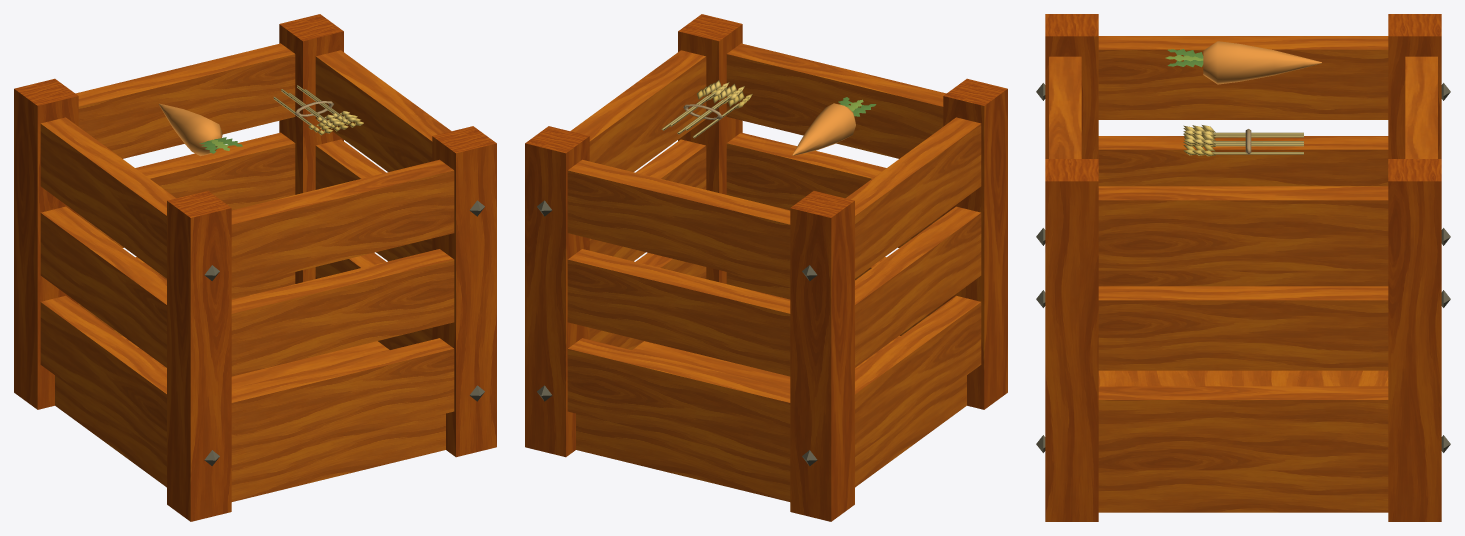
The model's file is farm-collection-box-9.gltf.
3 renders of one model, left to right at view 1: azimuth 30°, elevation 25°; view 2: azimuth 150°, elevation 25°; view 3: azimuth 270°, elevation 25°, orthographic. The views are drawn at different scales.
Visible parts, largest first — view 1: farm-collection-box-9; view 2: farm-collection-box-9; view 3: farm-collection-box-9.
Part boxes in pixels (<box>): farm-collection-box-9: <box>14,14,496,521</box>; farm-collection-box-9: <box>525,14,1007,521</box>; farm-collection-box-9: <box>1036,14,1450,521</box>.
Bounding box in the file's own units: 0.8002 × 0.8041 × 0.8382.
Materials: 2 (1 with a texture image).
